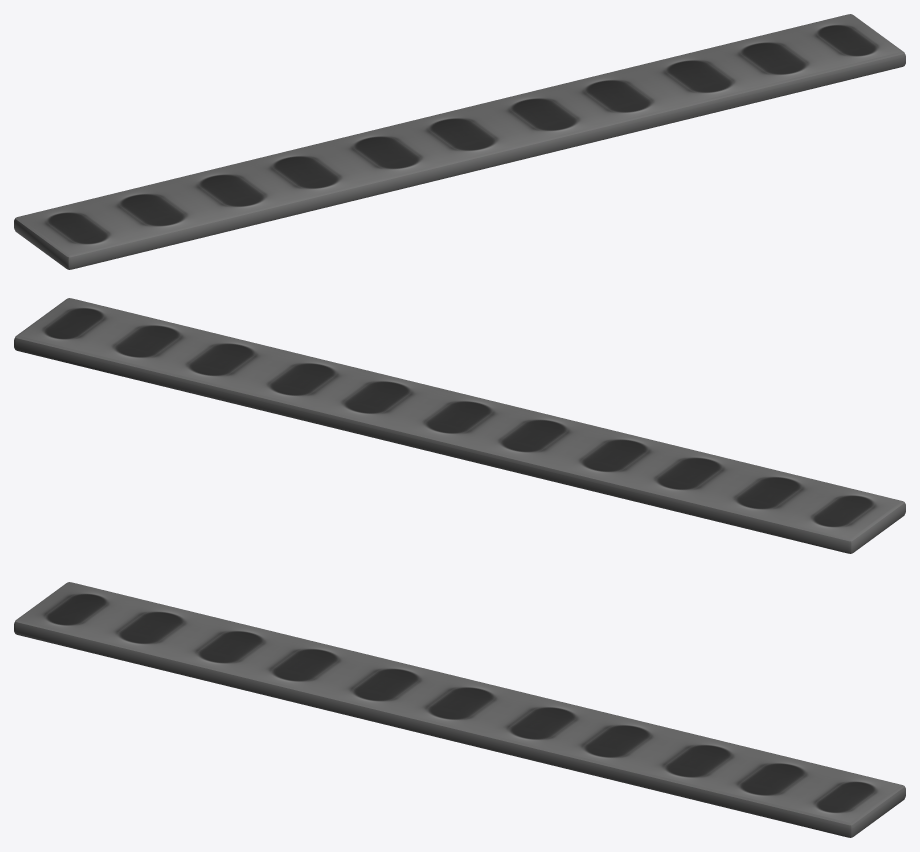
The model's file is SM_Ladder.FBX.
The picture shows the model from 3 angles, top to bottom: view 1: azimuth 30°, elevation 25°; view 2: azimuth 150°, elevation 25°; view 3: azimuth 330°, elevation 25°; orthographic projection.
Parts seen in each view (by area): view 1: ChamferBox001; view 2: ChamferBox001; view 3: ChamferBox001.
Part boxes in pixels (x1,y1,x2,y2): ChamferBox001: [14, 14, 905, 269]; ChamferBox001: [14, 298, 905, 553]; ChamferBox001: [14, 582, 905, 837].
Bounding box in the file's own units: 2223 × 37.7 × 256.
Materials: 1 (1 with a texture image).
